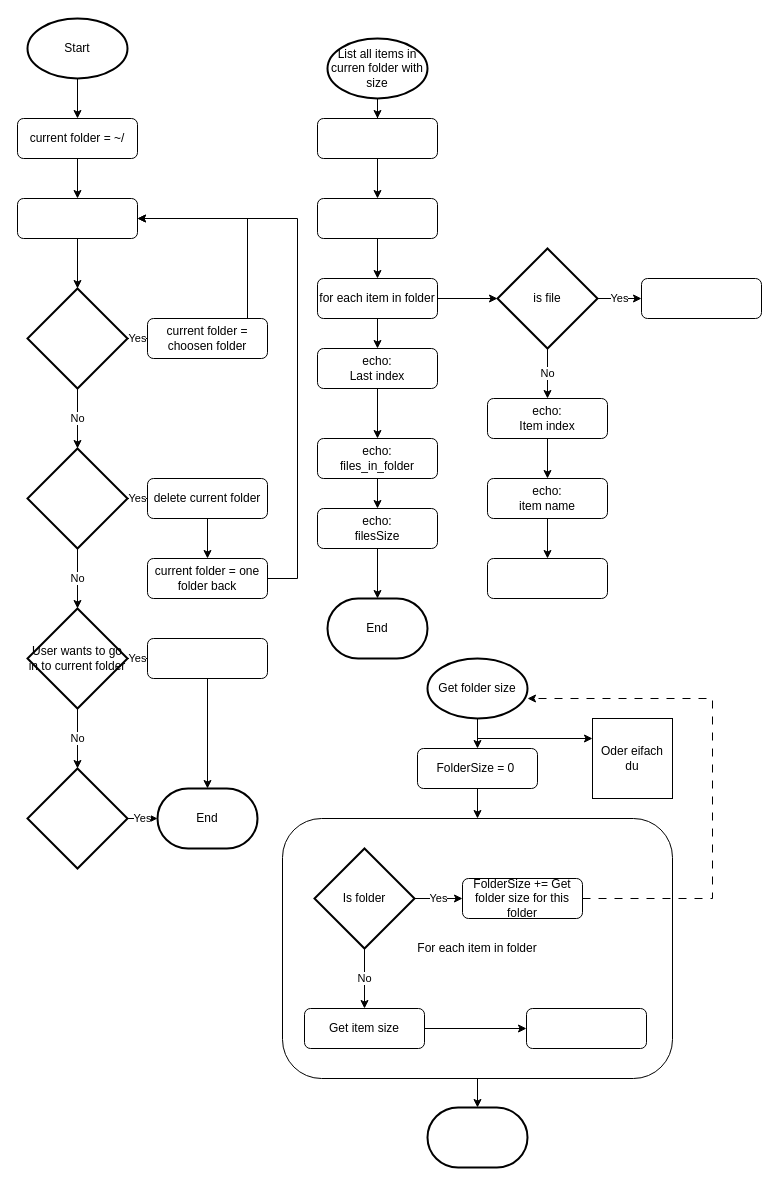
The diagram is 779 pixels wide and 1185 high, and some of its shapes have lost their labels. The shapes that lost their labels are listed below. From the top down, each one's centre as x and y in pixels, then its label:
point 377,138: get all items in current folder
point 77,218: list all items in current folder with size
point 377,218: filesSize = 0
point 701,298: filesSize += file size
point 77,338: user wants to go to new folder
point 77,498: User wants to delete folder
point 547,578: echo: item size
point 207,658: cd into current folder
point 77,818: User wants to exit
point 586,1028: FolderSize += item size
point 477,1137: return FolderSize
